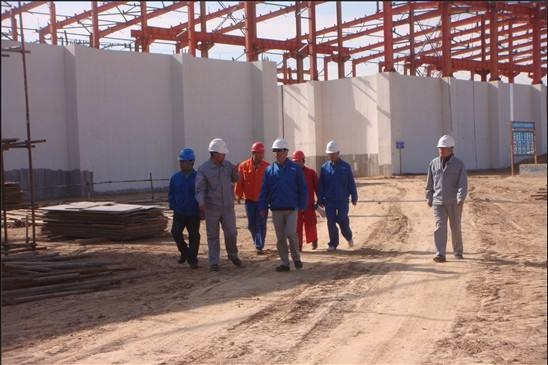blue: (176, 147, 198, 173)
red: (249, 142, 265, 162), (292, 148, 305, 167)
white: (205, 136, 228, 163), (269, 138, 289, 163), (437, 134, 456, 159), (324, 140, 340, 163)
